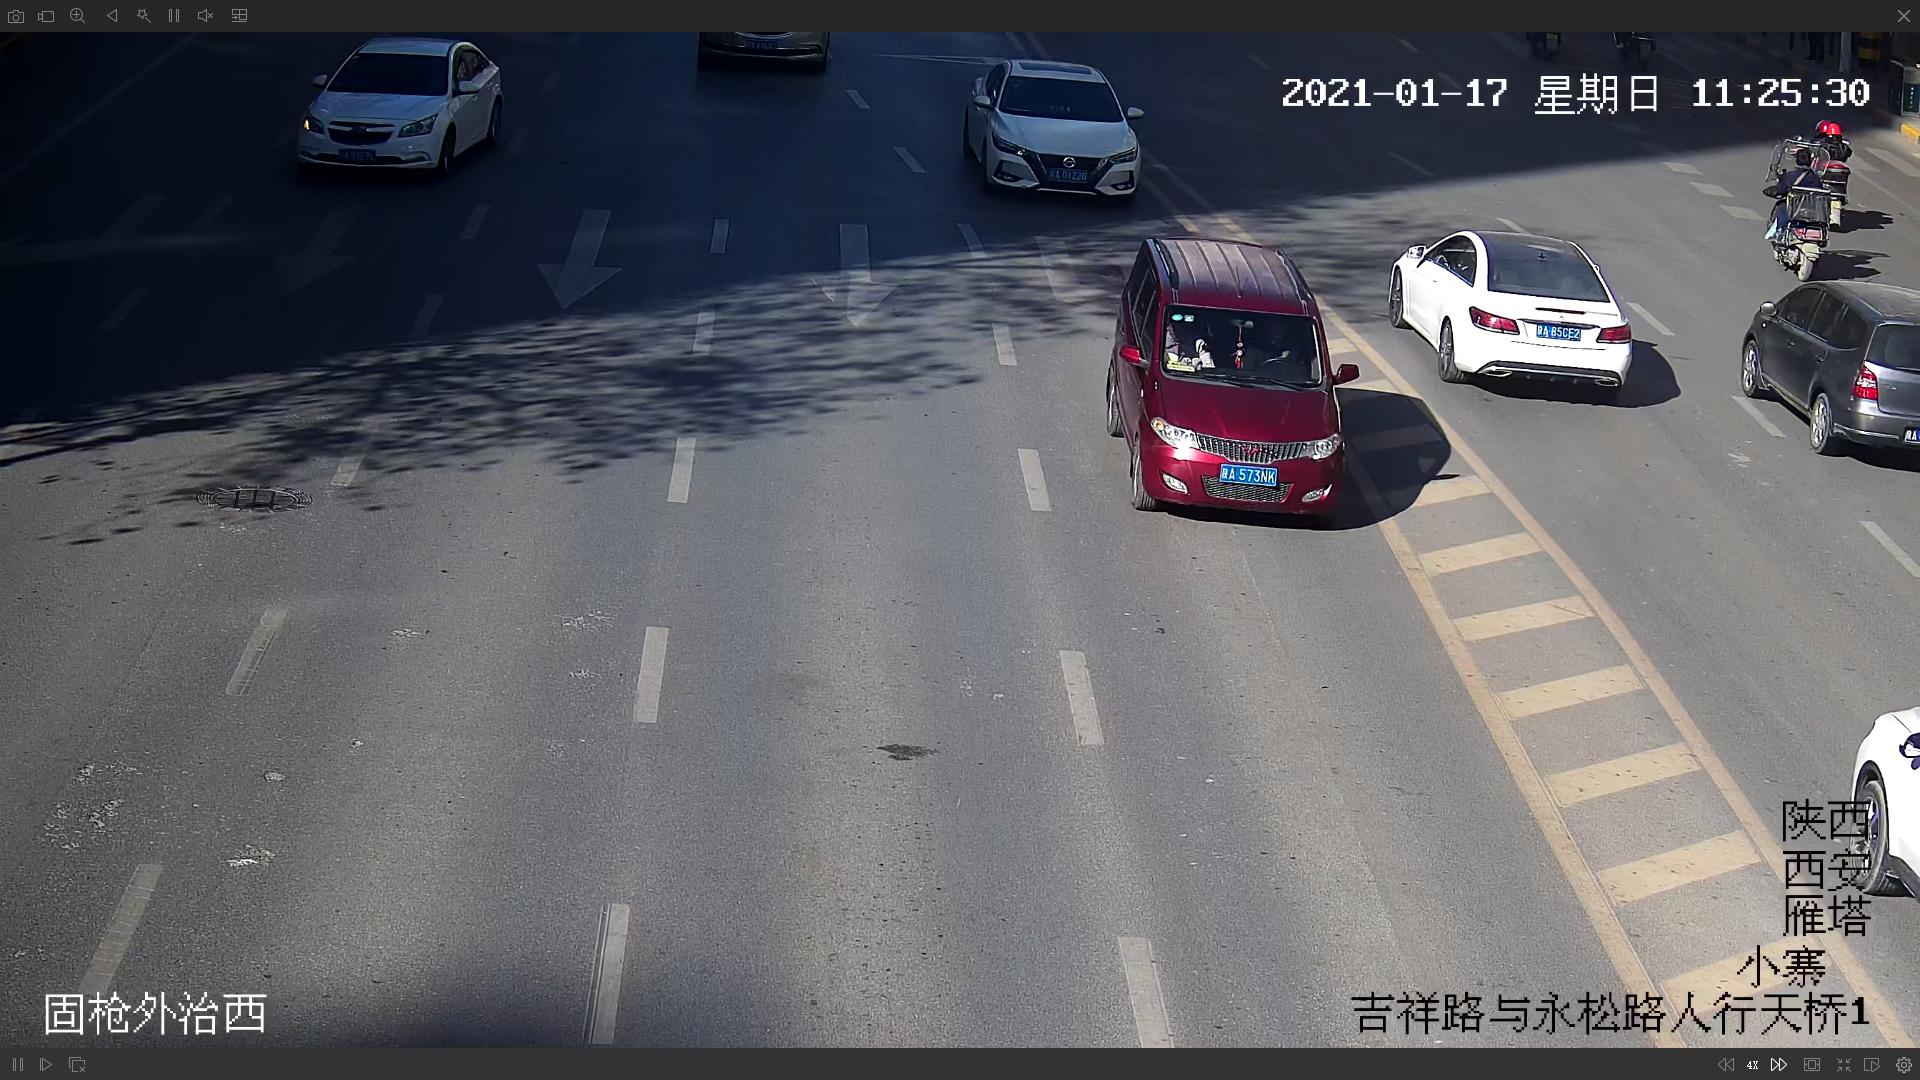dark-red: (1104, 229, 1352, 524)
white: (291, 36, 502, 182), (964, 47, 1134, 208)
